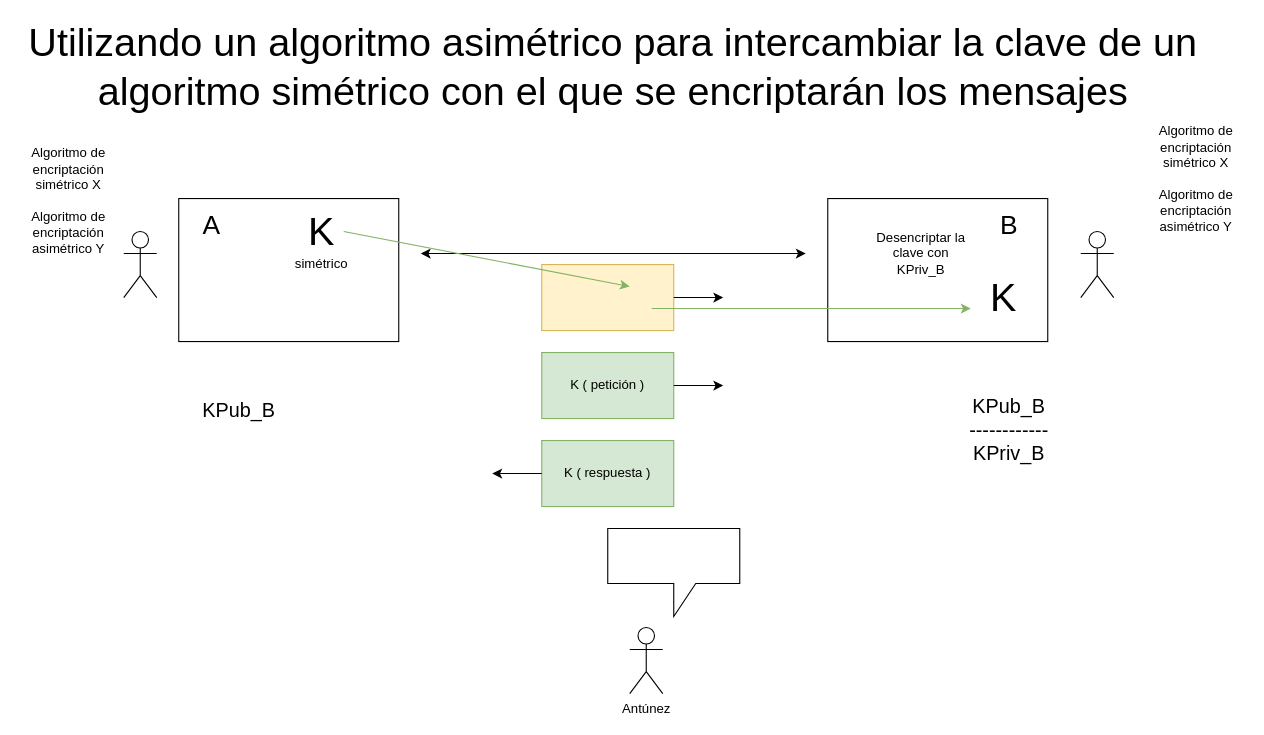
Image size: 1264x735. Some labels were removed from this diagram. Each missing label, with the centre of its shape:
"KPub_B( K )" belongs at point 607,297.
"Pues vaya..." belongs at point 673,572.
